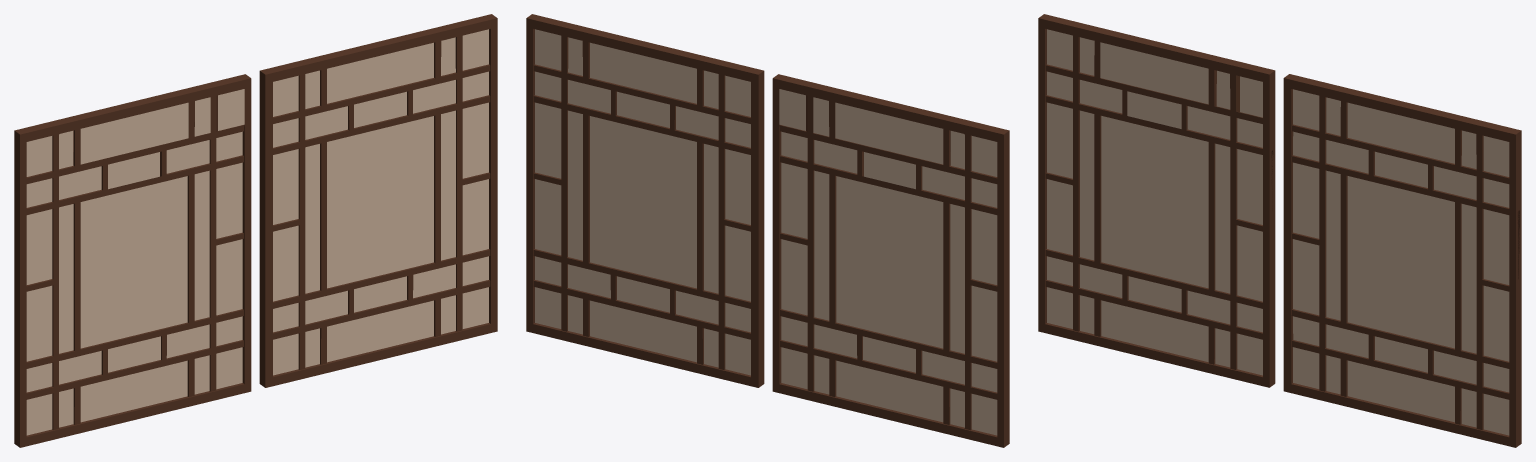
The model's file is ventanacorreccion.fbx.
The picture shows the model from 3 angles, left to right: view 1: azimuth 30°, elevation 25°; view 2: azimuth 150°, elevation 25°; view 3: azimuth 330°, elevation 25°; orthographic projection.
Parts seen in each view (by area): view 1: Pane01_ATRAS, Pane02_ATRAS; view 2: Pane01_ATRAS, Pane02_ATRAS; view 3: Pane01_ATRAS, Pane02_ATRAS.
Part boxes in pixels (x1,y1,x2,y2): Pane01_ATRAS: (259,14,497,387); Pane02_ATRAS: (14,74,251,447); Pane01_ATRAS: (526,14,764,387); Pane02_ATRAS: (772,74,1009,447); Pane01_ATRAS: (1283,74,1521,447); Pane02_ATRAS: (1038,14,1275,387).
Bounding box in the file's own units: 3.93 × 2.46 × 0.0808.
